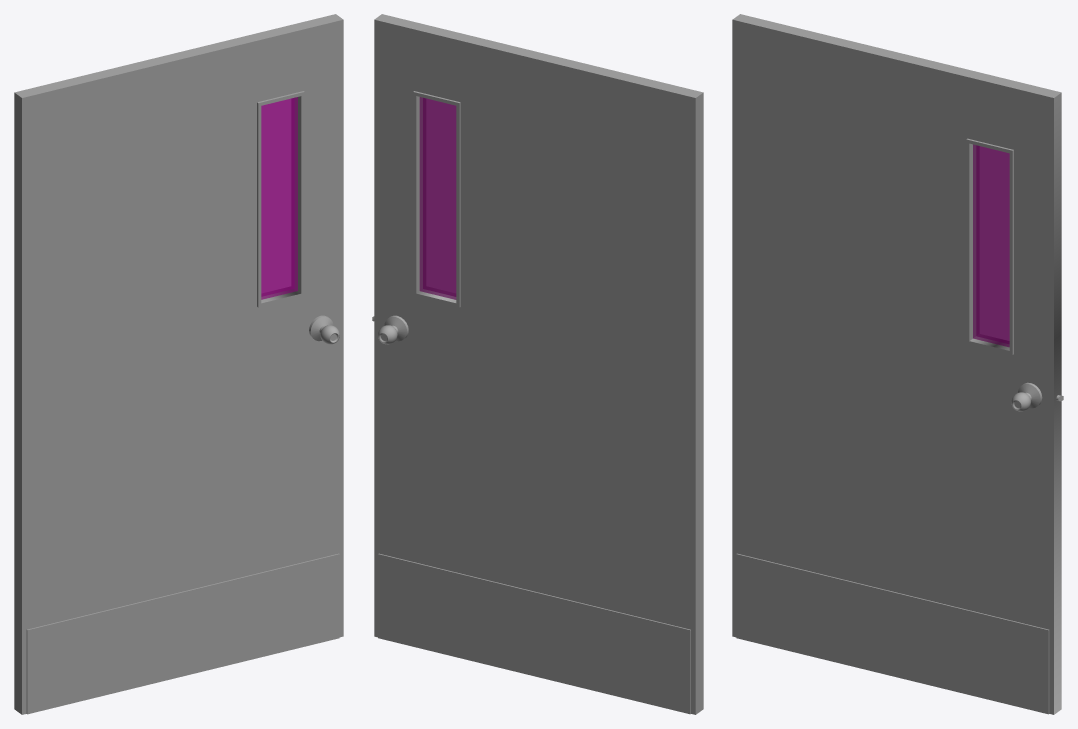
File: door2.fbx
3 renders of one model, left to right at view 1: azimuth 30°, elevation 25°; view 2: azimuth 150°, elevation 25°; view 3: azimuth 330°, elevation 25°, orthographic.
Parts seen in each view (by area): view 1: classroomDoor; view 2: classroomDoor; view 3: classroomDoor.
Boxes of the visible parts, x1,y1,x2,y2 form: classroomDoor: (14, 14, 343, 714); classroomDoor: (372, 14, 703, 714); classroomDoor: (732, 14, 1063, 714).
Size of the model in its own units: 122 by 220 by 23.
